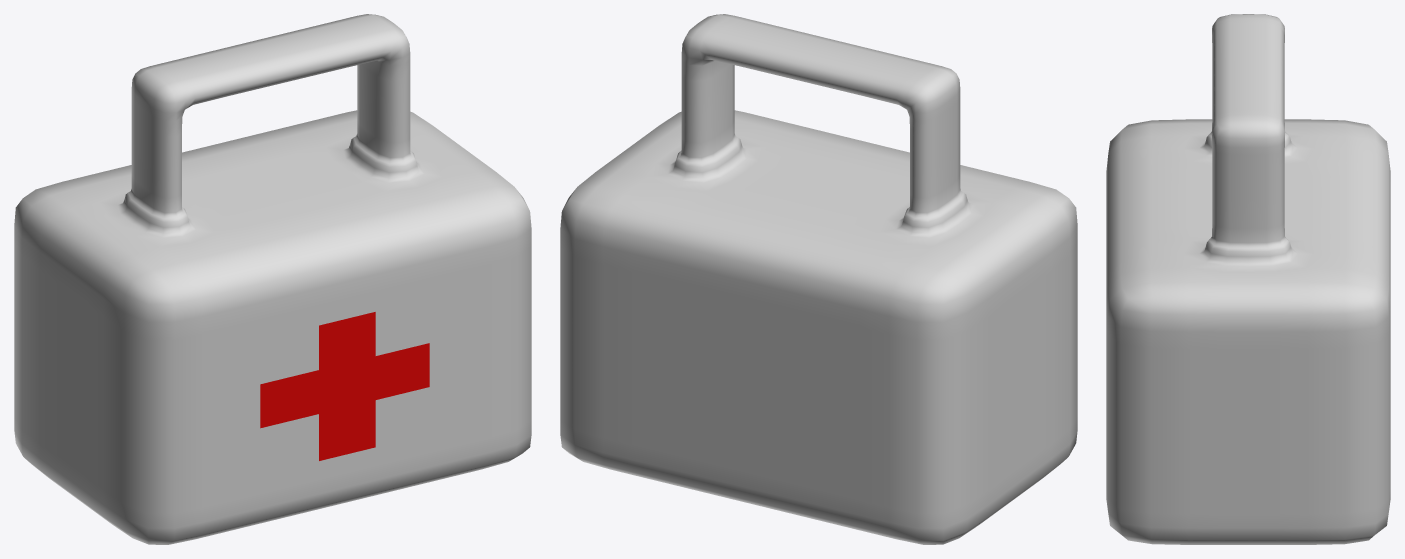
The model's file is Kit_medico 1.fbx.
3 views of the same model, side by side, from view 1: azimuth 30°, elevation 25°; view 2: azimuth 150°, elevation 25°; view 3: azimuth 270°, elevation 25° (orthographic). The views are drawn at different scales.
Visible parts, largest first — view 1: Kit_medico; view 2: Kit_medico; view 3: Kit_medico.
Part boxes in pixels (x1,y1,x2,y2): Kit_medico: (14,14,531,544); Kit_medico: (560,14,1077,544); Kit_medico: (1106,14,1390,544).
Bounding box in the file's own units: 24.22 × 23.62 × 15.51.
